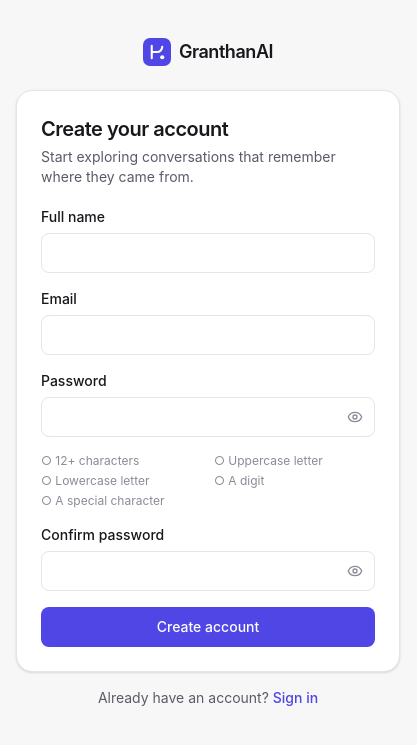
signup form › enforces the password policy and confirmation
Type "Alex Doe" into the field labelled "Full name" at coordinates (208, 253), box [41,233,375,273]
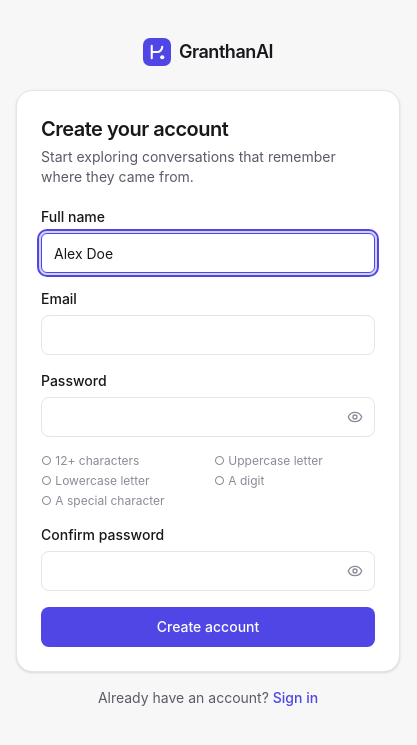
Type "alex@example.com" into the field labelled "Email" at coordinates (208, 335), box [41,315,375,355]
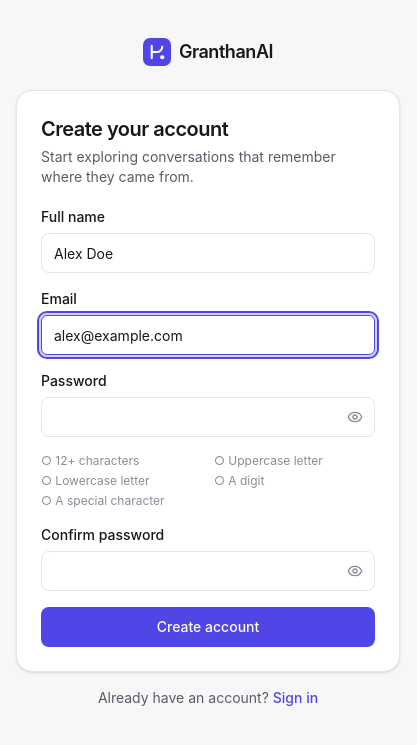
Type "weak" into the password field labelled "Password" at coordinates (208, 417), box [41,397,375,437]
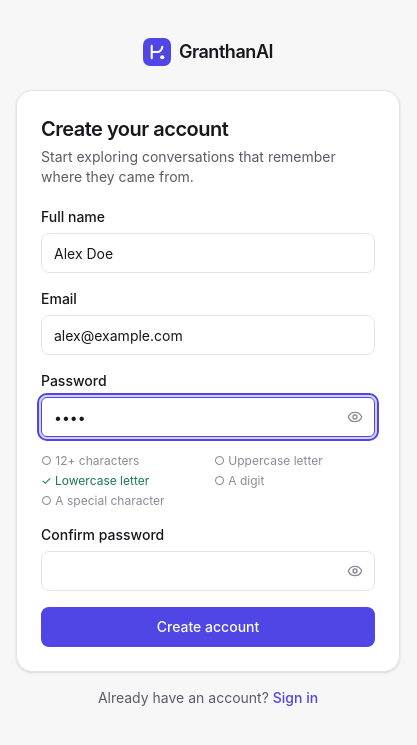
Type "nope" into the password field labelled "Confirm password" at coordinates (208, 571), box [41,551,375,591]
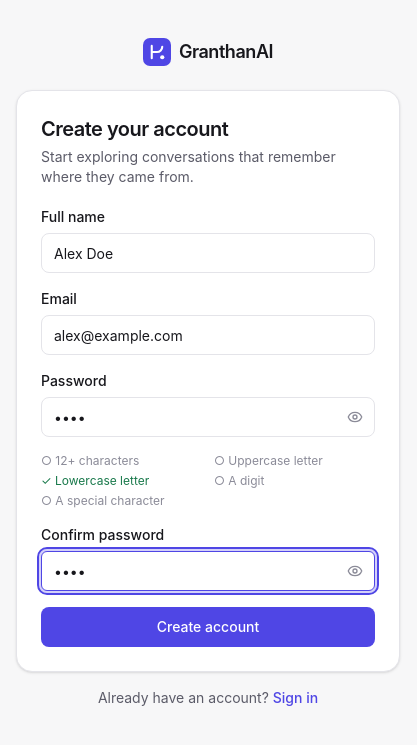
Click the button "Create account" at coordinates (208, 627), box [41,607,375,647]
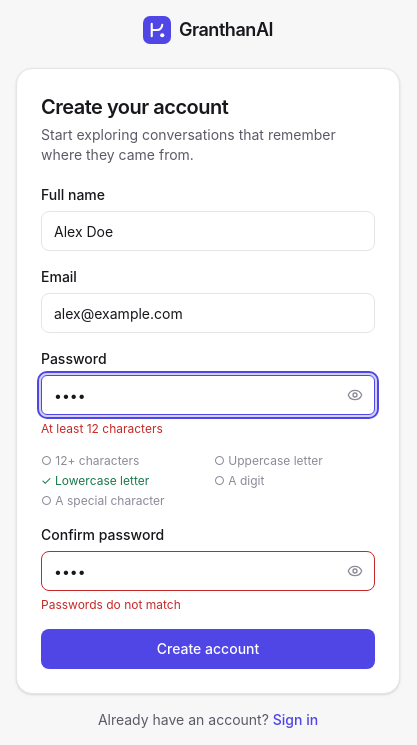
Check: the text "At least 12 characters" is shown, box [41,421,163,436]
Check: the text "Passwords do not match" is shown, box [41,597,181,612]
